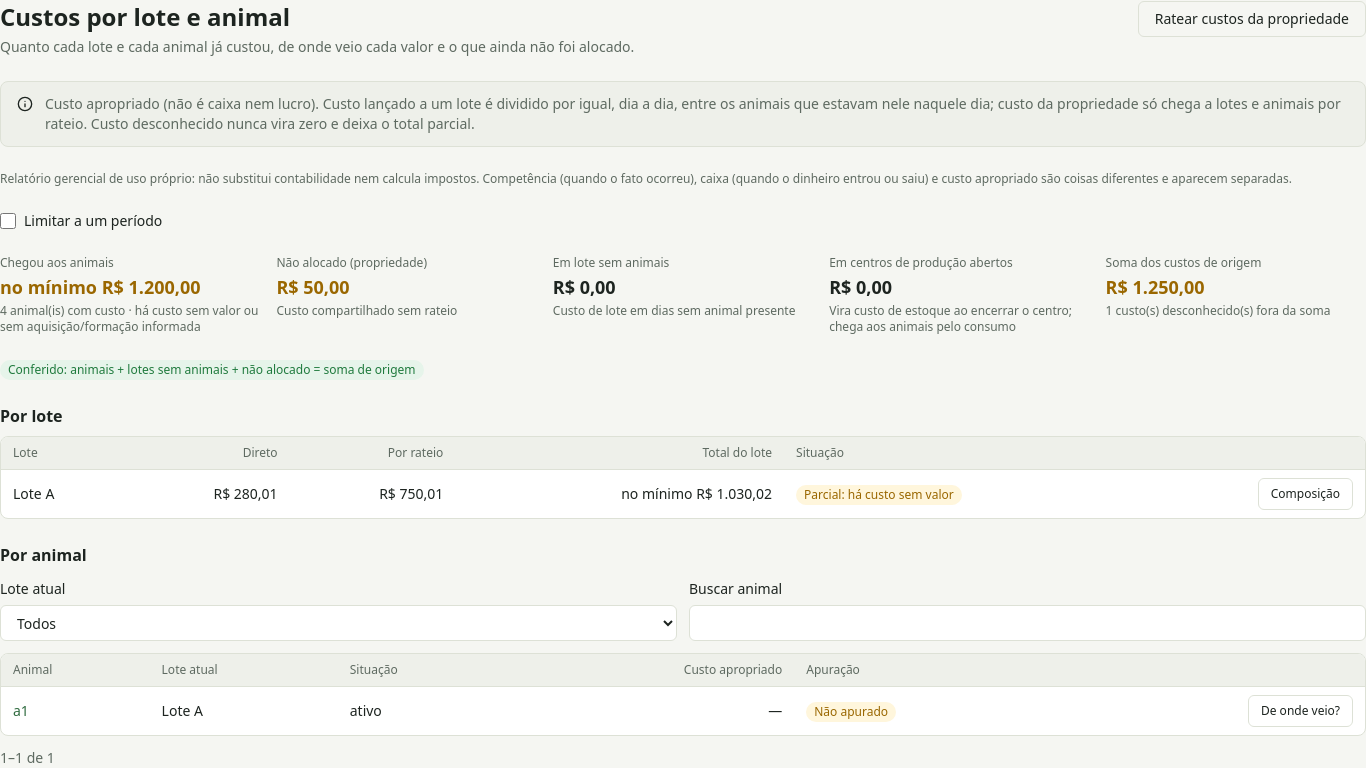
Test: custos por lote e animal (tela) › "De onde veio?" explica cada parte, inclusive a de valor desconhecido, com link para a origem
The image size is (1366, 768).
(page scrolled)
Click the button with aria-label "De onde veio o custo de a1" at {"x": 1300, "y": 711}, box [1248, 695, 1353, 727]
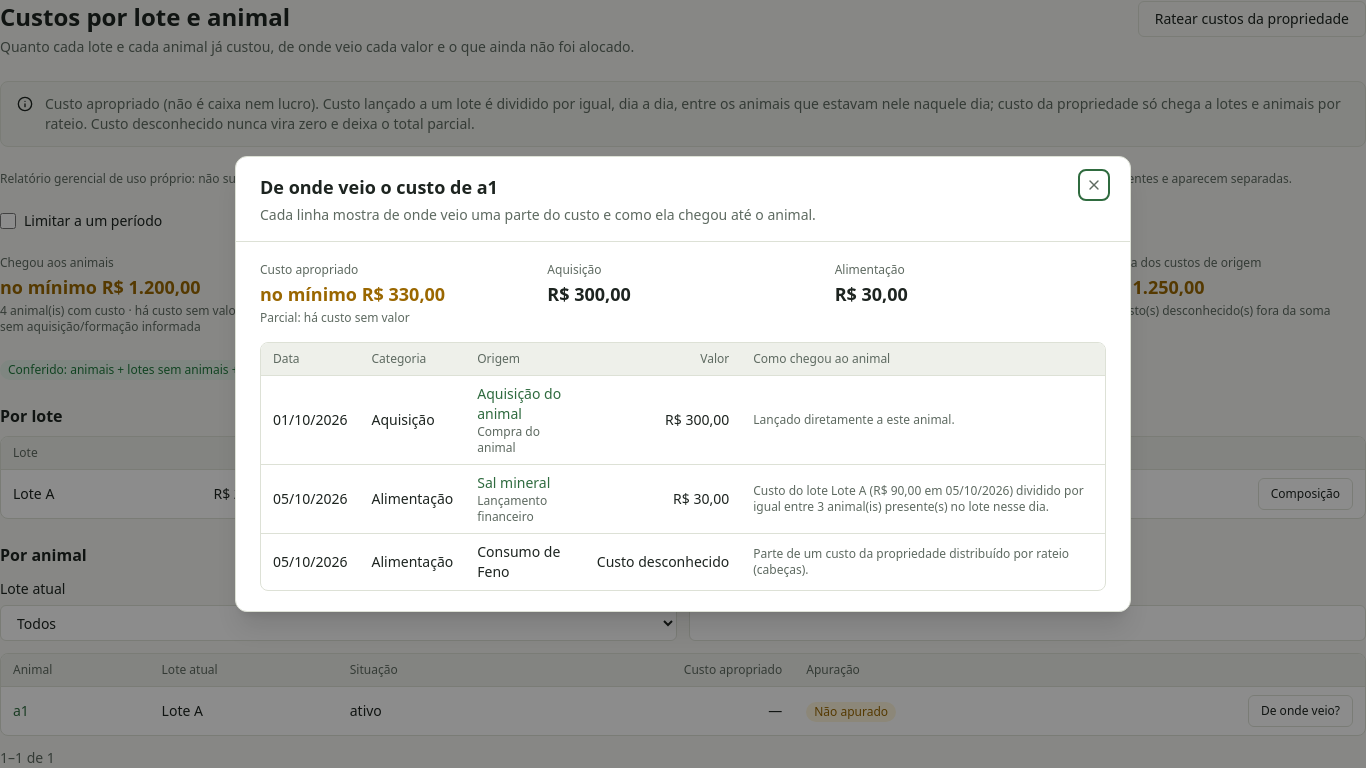
Now the text "dividido por igual entre 3 animal" is shown, box [753, 482, 1084, 515]
Now the text "Custo desconhecido" is shown, box [585, 534, 741, 590]
